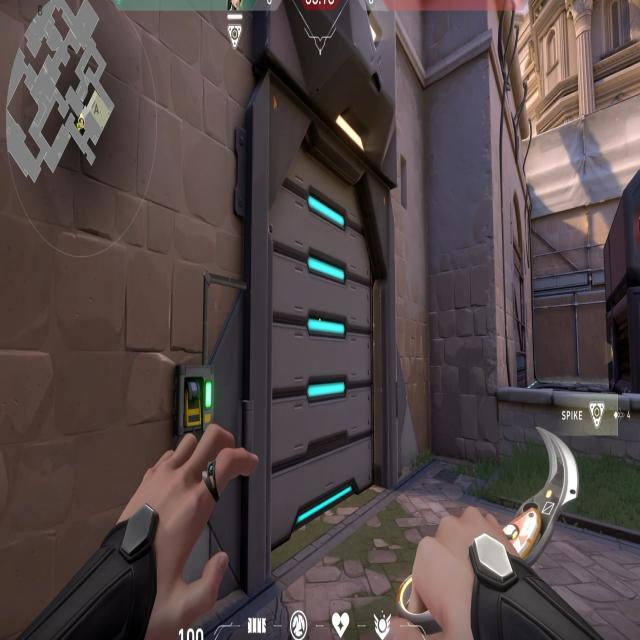A_Door: (266, 154, 390, 527)
A_Heaven_Wall: (524, 118, 640, 292)
